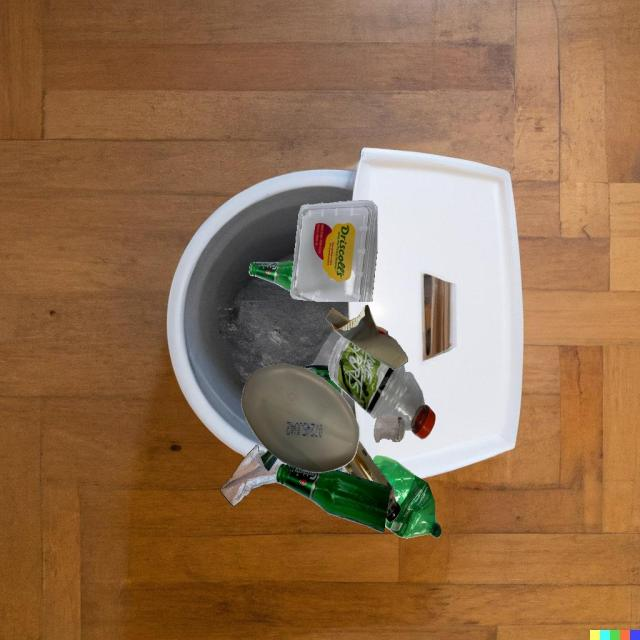biowaste: (261, 450, 278, 471)
cardboard: (325, 305, 408, 370)
glass: (275, 464, 390, 533), (344, 440, 401, 522), (249, 260, 293, 291), (300, 365, 342, 395), (374, 415, 405, 443)
paper: (220, 444, 290, 506)
plastic: (241, 363, 359, 473), (328, 336, 435, 439), (290, 200, 377, 302), (373, 455, 441, 538)
